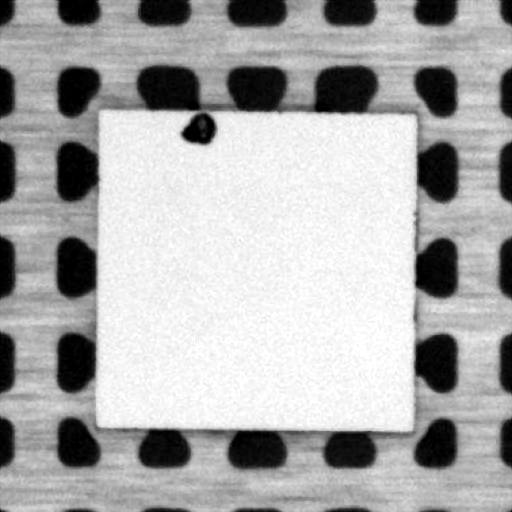DIE_INK: (179, 112, 217, 146)
